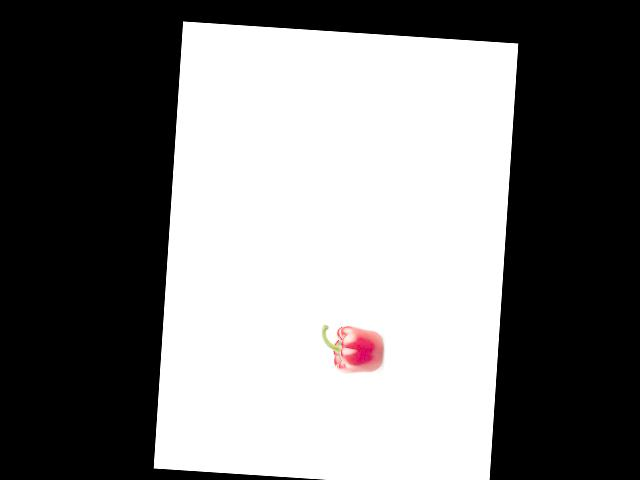bell_pepper: (318, 322, 385, 374)
